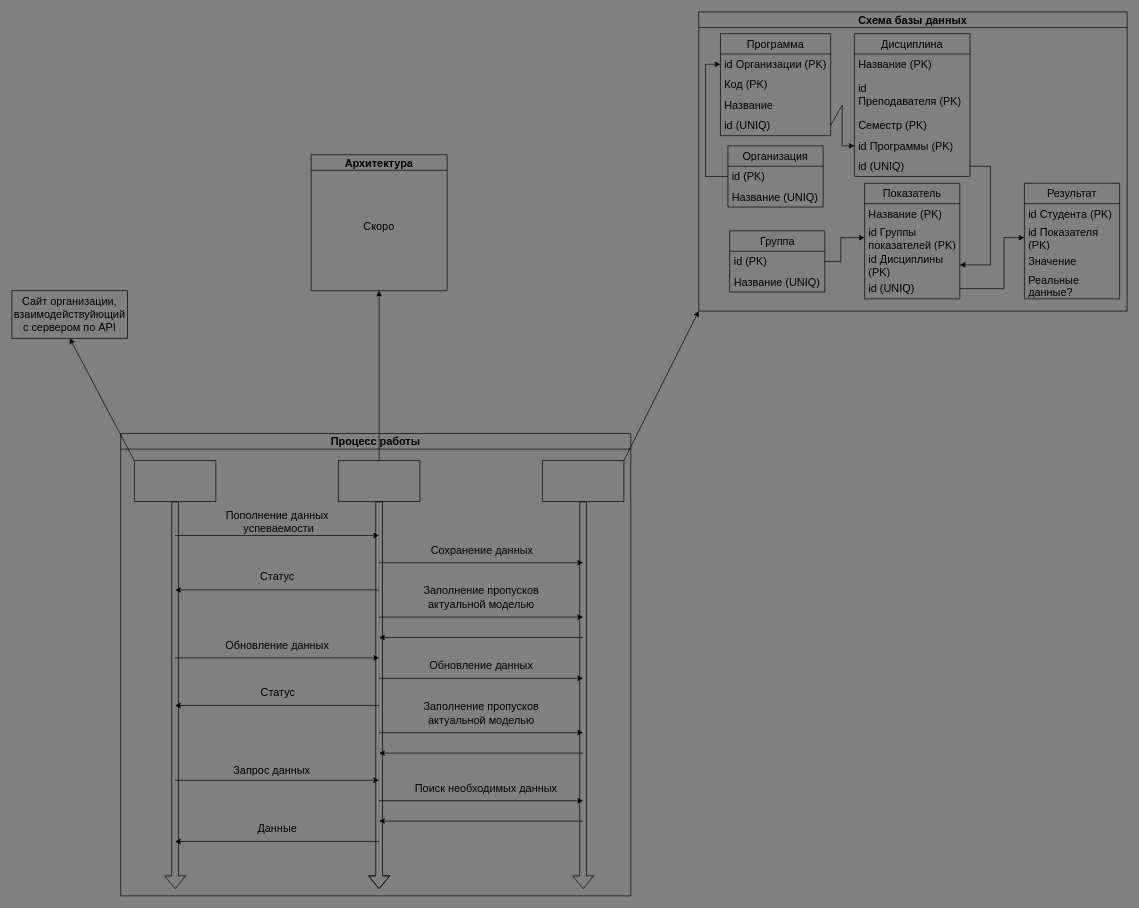
Image size: 1139x908. Some labels were removed from this diagram. The centre of each missing label's shape, as x and y in pixels:
База данных: [583,481]
Клиент: [175,481]
Сервер: [379,481]
